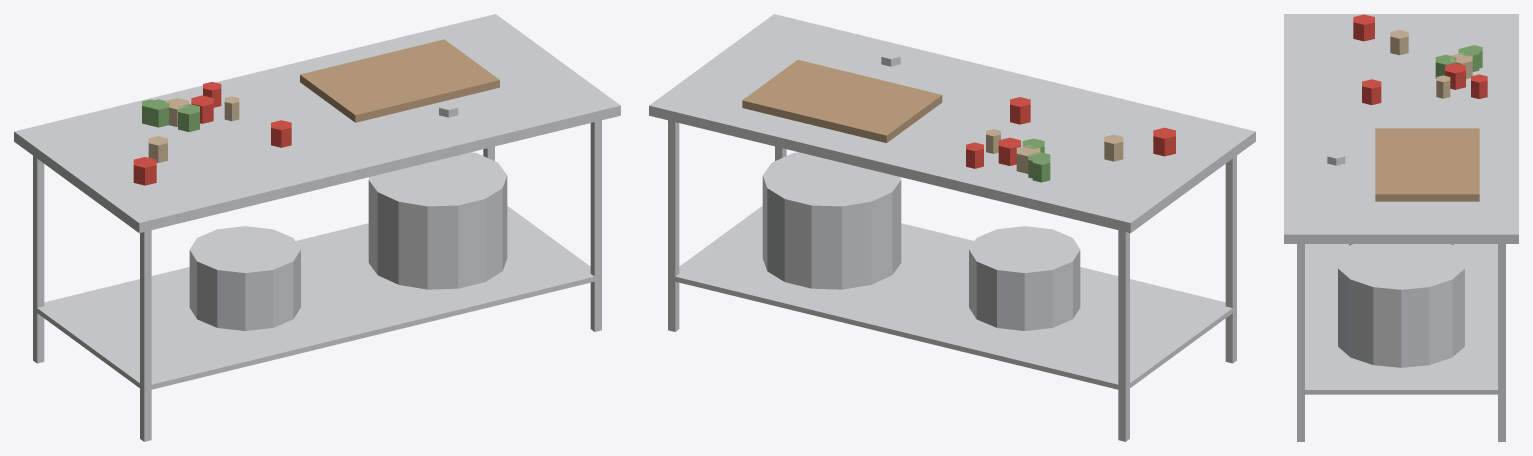
The model's file is Prep_Table.fbx.
The picture shows the model from 3 angles, left to right: view 1: azimuth 30°, elevation 25°; view 2: azimuth 150°, elevation 25°; view 3: azimuth 270°, elevation 25°; orthographic projection. The views are drawn at different scales.
Visible parts, largest first — view 1: Prep_Table; view 2: Prep_Table; view 3: Prep_Table.
Boxes of the visible parts, box(x1,y1,x2,y2) form: Prep_Table: box(14, 14, 620, 441); Prep_Table: box(649, 14, 1255, 441); Prep_Table: box(1284, 14, 1518, 441).
Bounding box in the file's own units: 2 × 0.97 × 0.9.
